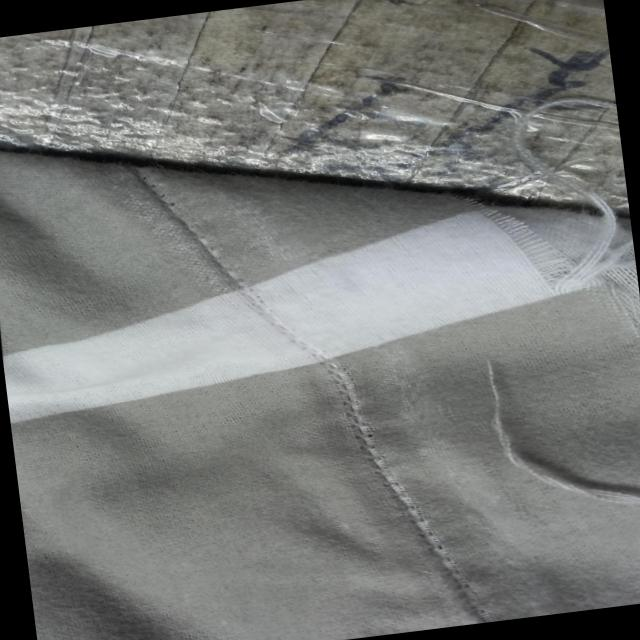gray stitch: (358, 418, 508, 635), (220, 264, 382, 441), (116, 146, 246, 290)
